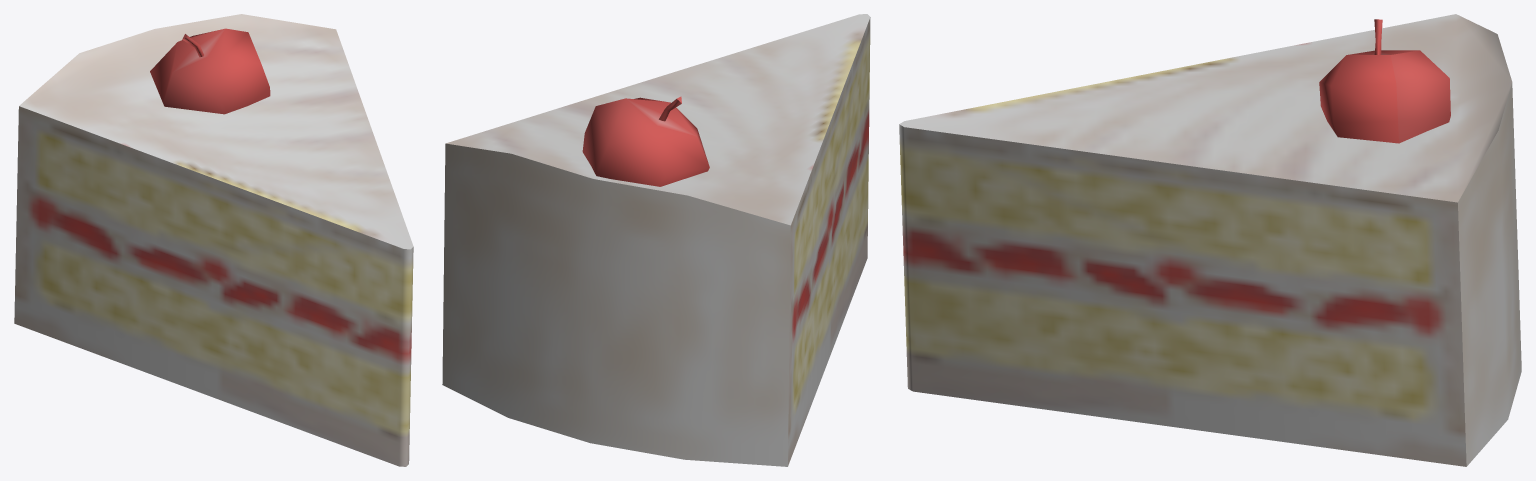
The model's file is Sapph_CakeSliceStrawberry.fbx.
The picture shows the model from 3 angles, left to right: view 1: azimuth 30°, elevation 25°; view 2: azimuth 150°, elevation 25°; view 3: azimuth 270°, elevation 25°; orthographic projection. The views are drawn at different scales.
Parts seen in each view (by area): view 1: CakeSlice; view 2: CakeSlice; view 3: CakeSlice.
Boxes of the visible parts, <box> form: CakeSlice: <box>14,14,413,466</box>; CakeSlice: <box>442,14,870,466</box>; CakeSlice: <box>899,14,1521,466</box>.
Bounding box in the file's own units: 12.65 × 11.17 × 17.75.
